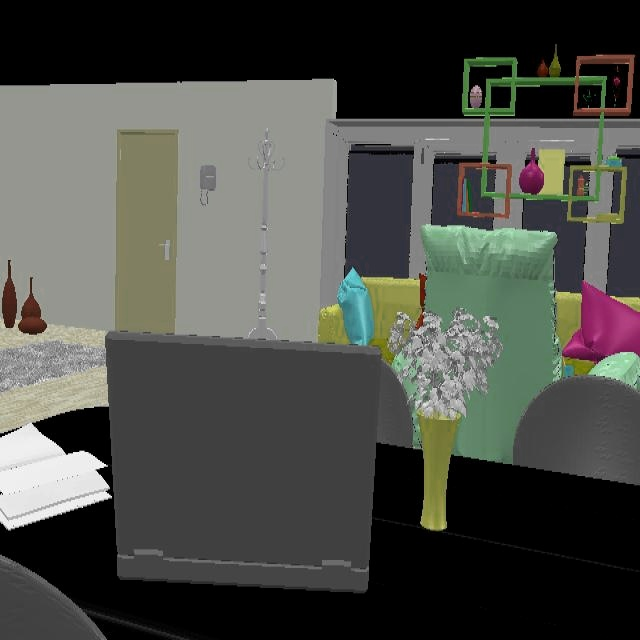book: (0, 427, 110, 532)
chair: (514, 377, 640, 487), (0, 555, 109, 640), (377, 365, 417, 448)
laptop: (104, 332, 384, 596)
pillow: (562, 281, 640, 365), (336, 269, 376, 347)
sofa: (417, 224, 560, 464), (362, 277, 421, 357), (557, 292, 581, 347), (321, 305, 348, 344)
table: (0, 444, 640, 640)
